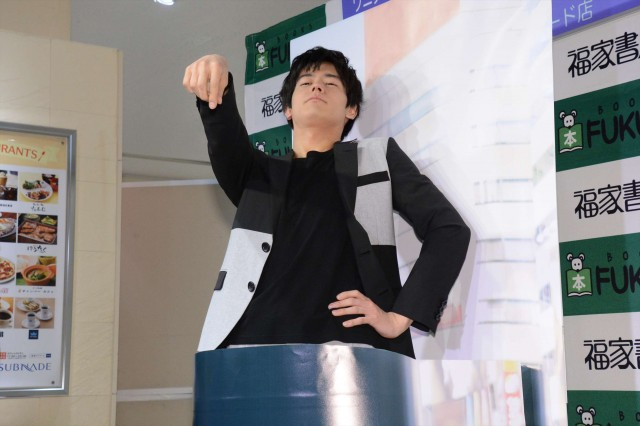face: (284, 61, 358, 128)
hand: (328, 290, 412, 337), (184, 51, 230, 108)
